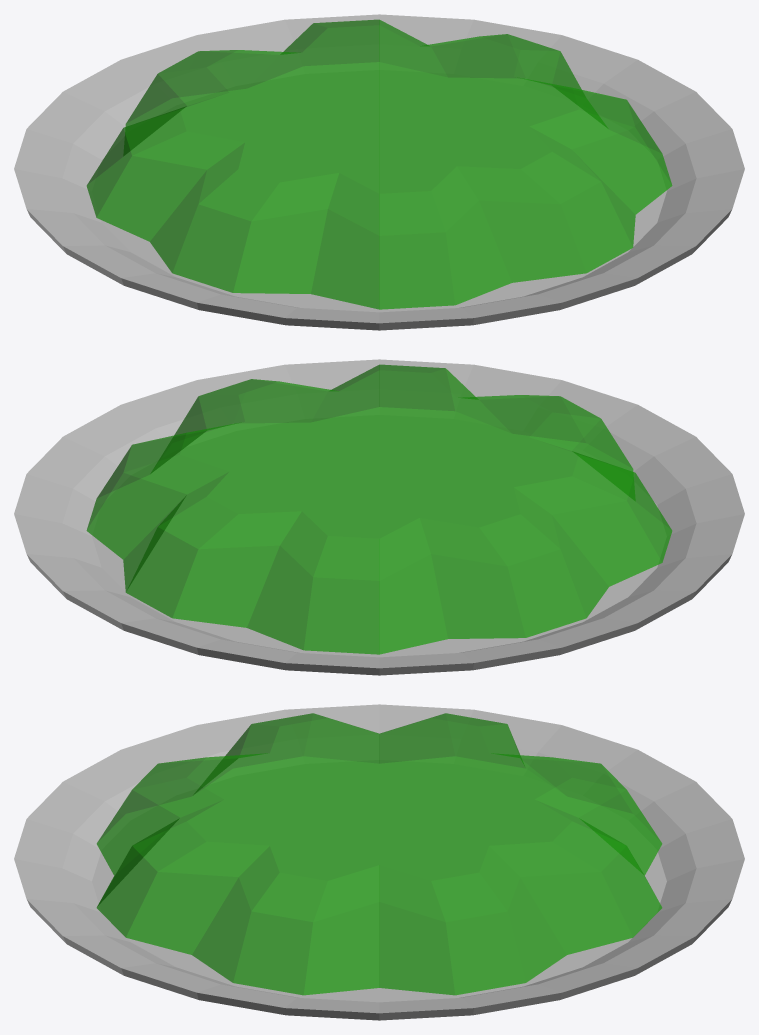
Rendered from Jelly.fbx.
3 renders of one model, top to bottom at view 1: azimuth 30°, elevation 25°; view 2: azimuth 150°, elevation 25°; view 3: azimuth 270°, elevation 25°, orthographic.
Visible parts, largest first — view 1: Plate, Jelly; view 2: Plate, Jelly; view 3: Plate, Jelly.
Boxes of the visible parts, bbox=[...] form: Plate: bbox=[14, 14, 744, 330]; Jelly: bbox=[86, 19, 672, 309]; Plate: bbox=[14, 359, 744, 675]; Jelly: bbox=[86, 364, 672, 654]; Plate: bbox=[14, 704, 744, 1020]; Jelly: bbox=[96, 713, 662, 995].
Bounding box in the file's own units: 250 × 33.63 × 250.
